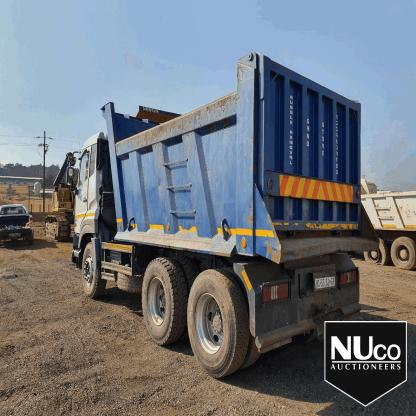dump_truck: (66, 49, 373, 382)
